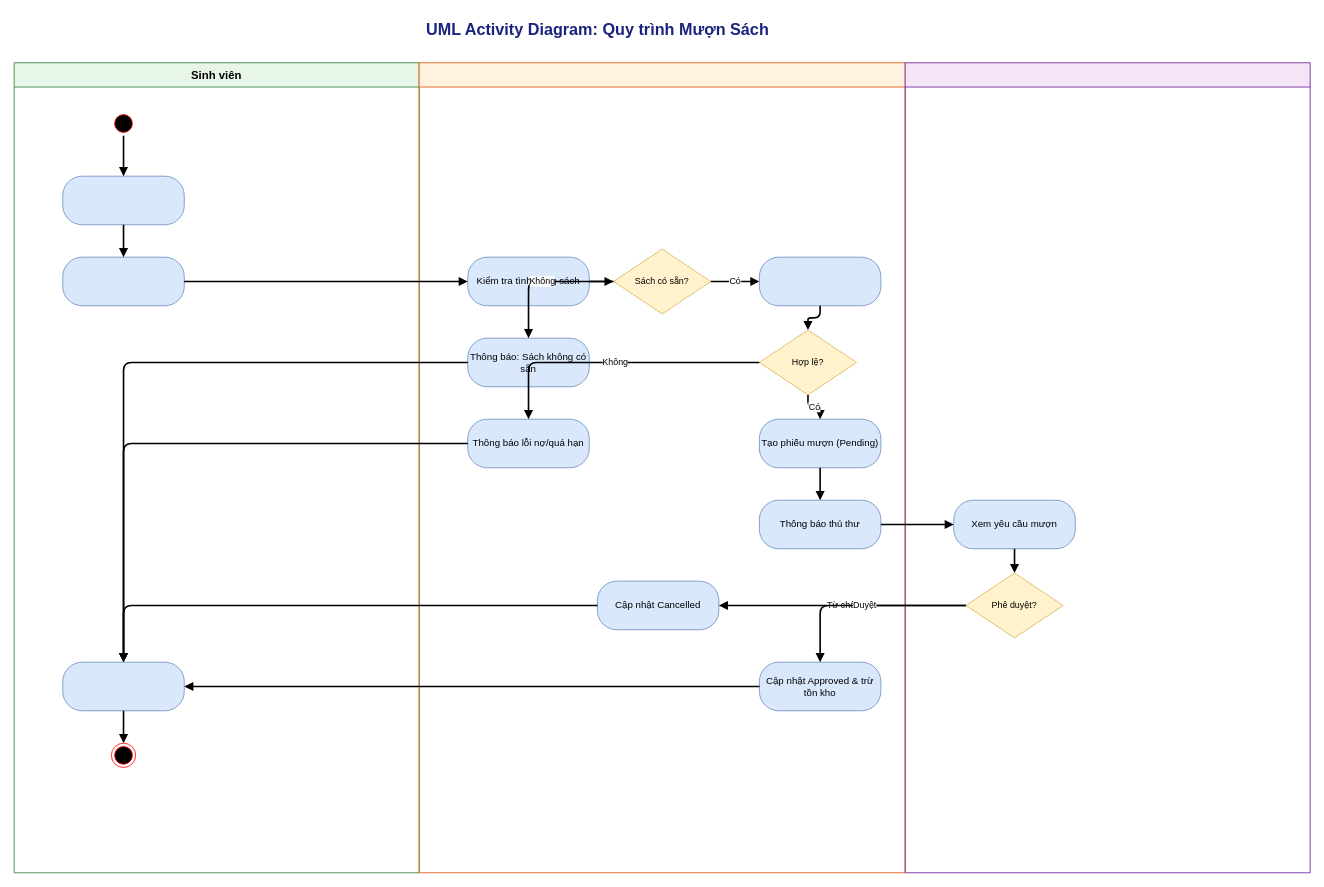
This 1324x887 diagram has some shape labels left out. Each missing label, with the box of its shape:
Hệ thống LiMS: (418, 62, 905, 873)
Kiểm tra sách quá hạn & giới hạn: (759, 256, 881, 306)
Nhận thông báo kết quả: (62, 661, 184, 711)
Thủ thư: (904, 62, 1310, 873)
Tìm kiếm sách: (62, 175, 184, 225)
Xem chi tiết & bấm Mượn: (62, 256, 184, 306)
